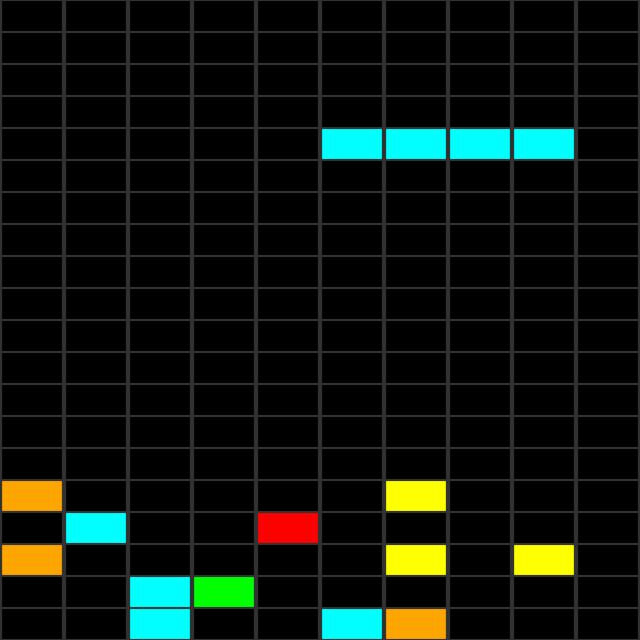Tetrimino_Z: (320, 128, 574, 161)
